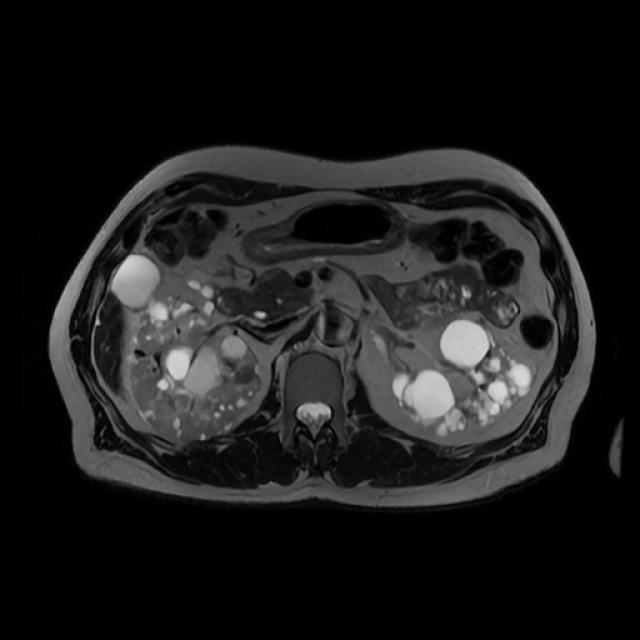sag: (131, 279, 261, 444)
sol: (389, 318, 530, 432)
